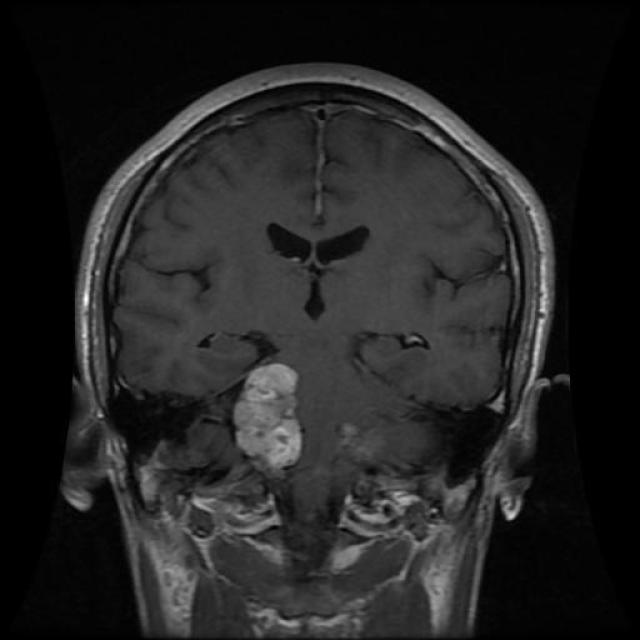Meningioma: (234, 361, 305, 476)
